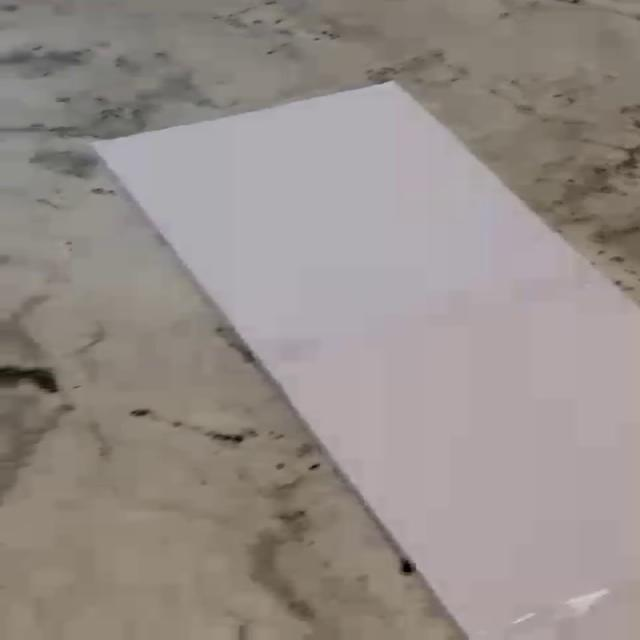road: (96, 83, 639, 640)
